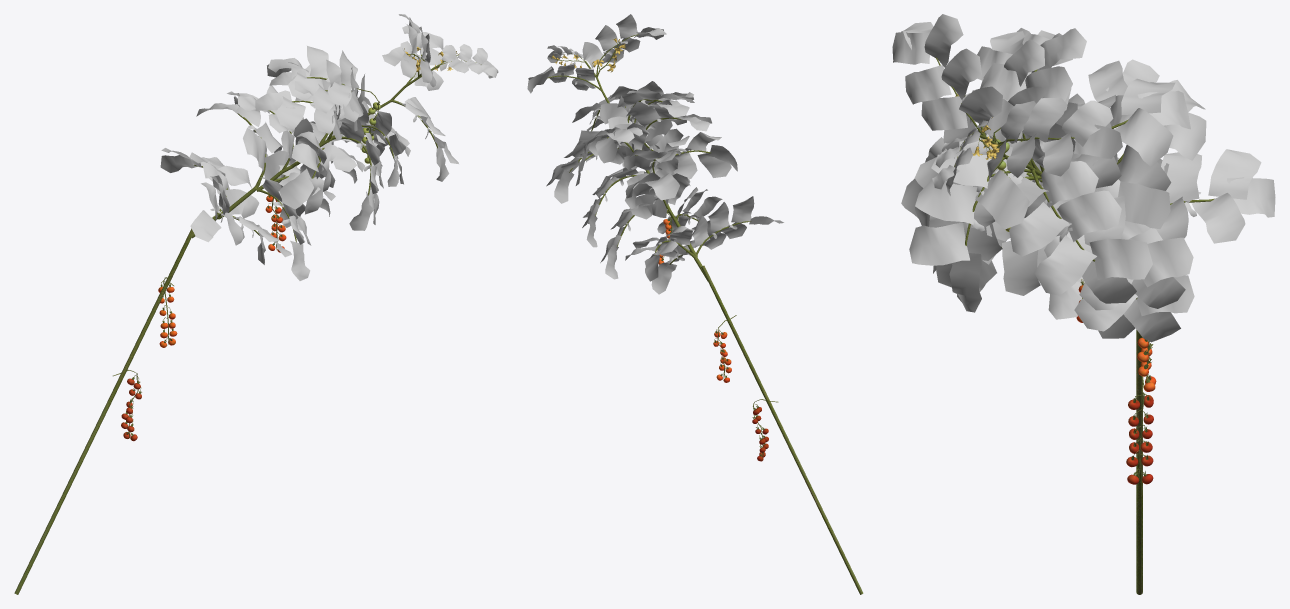
The model's file is tomato_vine_repo_v8.dae.
3 views of the same model, side by side, from view 1: azimuth 30°, elevation 25°; view 2: azimuth 150°, elevation 25°; view 3: azimuth 270°, elevation 25° (orthographic). The views are drawn at different scales.
Visible parts, largest first — view 1: Leaf1, Branch1, Sphere.013; view 2: Leaf1, Branch1, Sphere.013; view 3: Leaf1, Branch1, Sphere.001, Sphere.013.
Boxes of the visible parts, left/top/right/bottom form: Leaf1: left=160, top=14, right=498, bottom=280; Branch1: left=14, top=53, right=481, bottom=594; Sphere.013: left=158, top=195, right=286, bottom=347; Leaf1: left=527, top=14, right=783, bottom=294; Branch1: left=547, top=34, right=863, bottom=594; Sphere.013: left=657, top=219, right=731, bottom=382; Leaf1: left=892, top=14, right=1275, bottom=342; Branch1: left=935, top=57, right=1214, bottom=594; Sphere.001: left=1126, top=395, right=1153, bottom=484; Sphere.013: left=1076, top=285, right=1156, bottom=391.
Size of the model in its own units: 1.86 by 0.9496 by 2.26.
